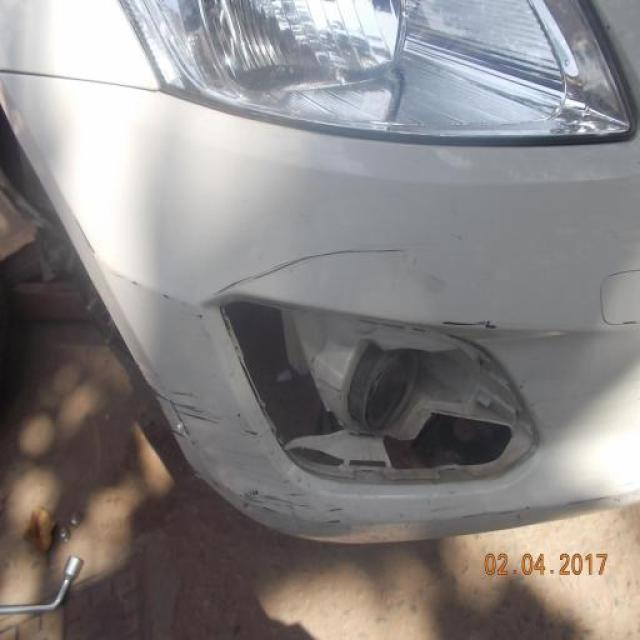missing: (223, 297, 543, 484)
scratch: (209, 244, 415, 296), (148, 386, 267, 437), (234, 483, 347, 530), (442, 312, 501, 333)
